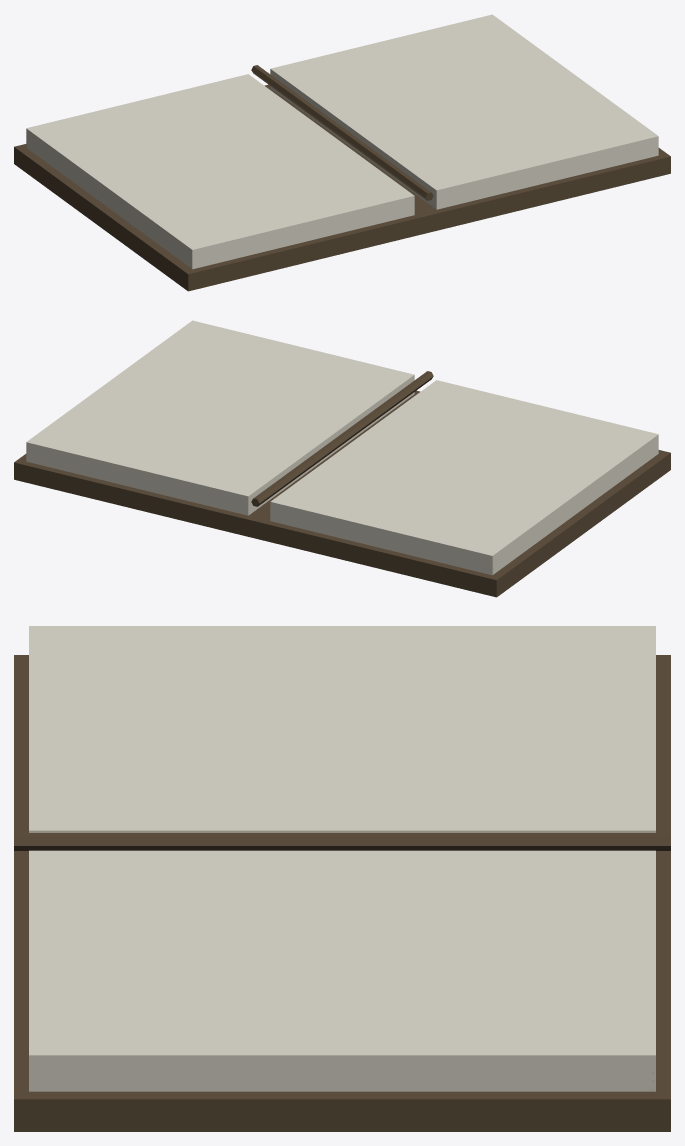
Rendered from blender_ghost_writing_book_3_open.glb.
3 renders of one model, top to bottom at view 1: azimuth 30°, elevation 25°; view 2: azimuth 150°, elevation 25°; view 3: azimuth 270°, elevation 25°, orthographic. The views are drawn at different scales.
Parts seen in each view (by area): view 1: blender_ghost_writing_book_3_open; view 2: blender_ghost_writing_book_3_open; view 3: blender_ghost_writing_book_3_open.
Part boxes in pixels (x1,y1,x2,y2): blender_ghost_writing_book_3_open: [14, 14, 670, 291]; blender_ghost_writing_book_3_open: [14, 320, 670, 597]; blender_ghost_writing_book_3_open: [14, 626, 670, 1131].
Bounding box in the file's own units: 0.352 × 0.0336 × 0.22.
1 material, 1 textured.
